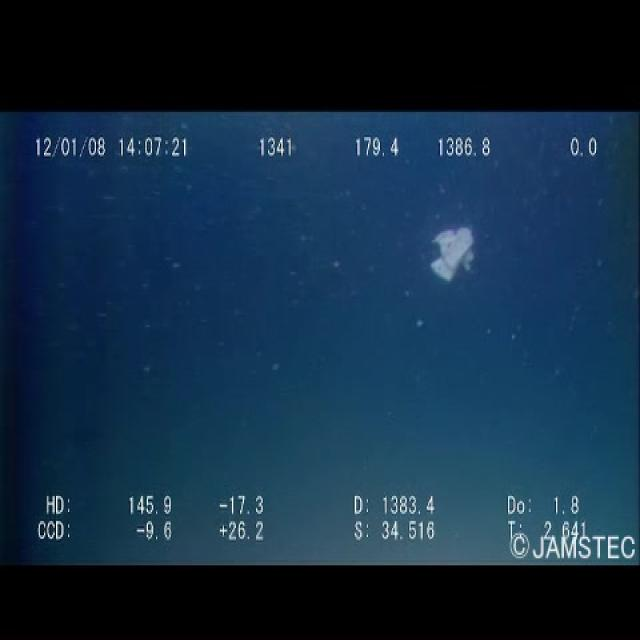plastic: (424, 218, 481, 284)
